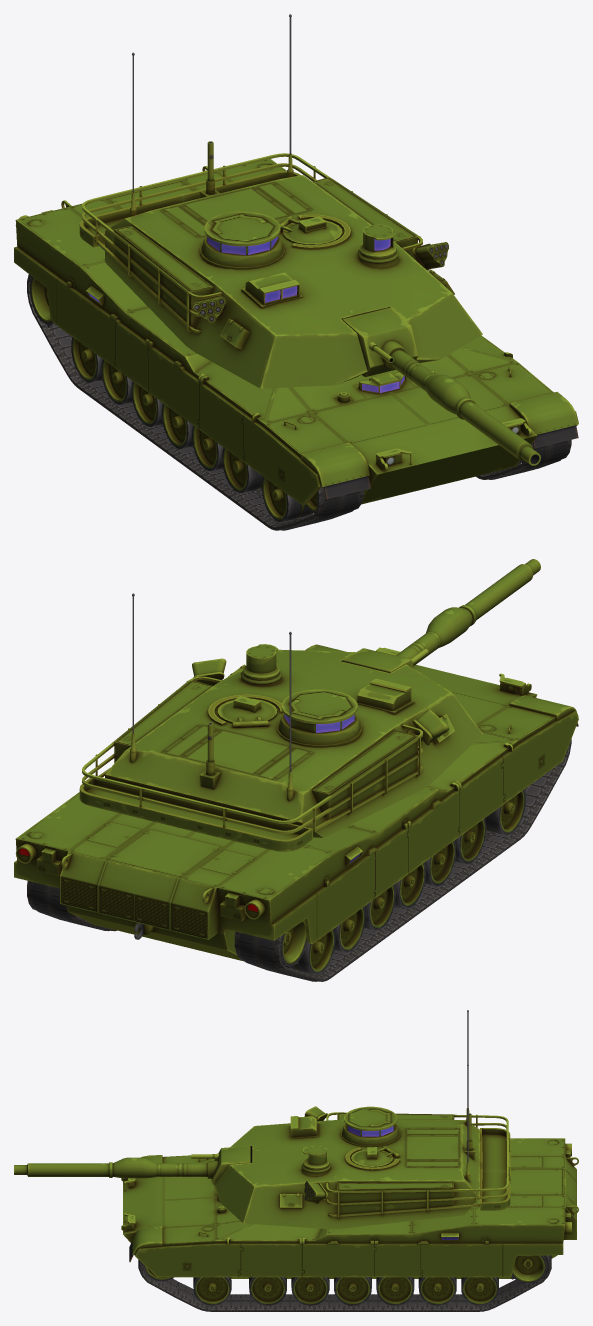
File: MilitaryTank01.FBX
The picture shows the model from 3 angles, top to bottom: view 1: azimuth 30°, elevation 25°; view 2: azimuth 150°, elevation 25°; view 3: azimuth 270°, elevation 25°; orthographic projection. The views are drawn at different scales.
Visible parts, largest first — view 1: MilitaryTank01; view 2: MilitaryTank01; view 3: MilitaryTank01.
Boxes of the visible parts, x1,y1,x2,y2 form: MilitaryTank01: (14,14,578,530); MilitaryTank01: (14,559,578,981); MilitaryTank01: (14,1010,578,1311).
Size of what is drawn, in the model's own units: 4.55 by 5.44 by 11.98.
